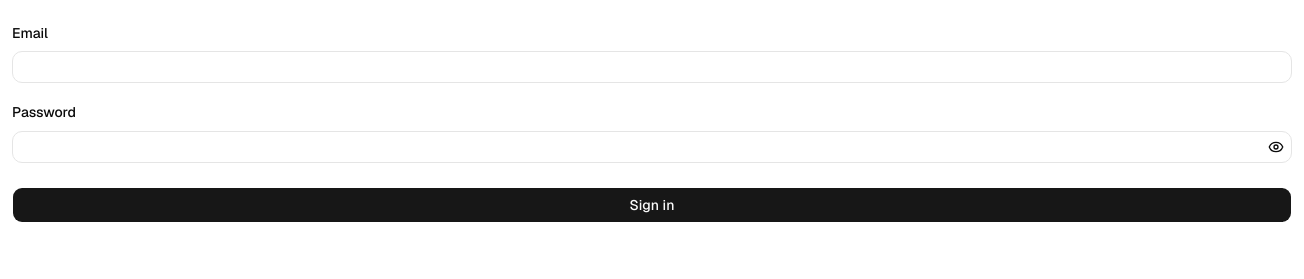
Test: SigninForm › uses Retry-After for 429 and does not retry
This screenshot has width=1304, height=279.
Type "Mostafa@Example.com" into the field labelled "Email" at [652, 67], box left=12, top=51, right=1292, bottom=83
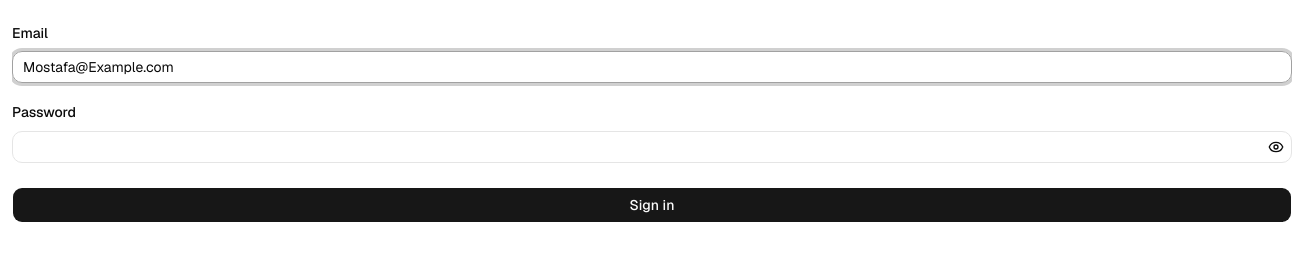
Type " secret " into the password field labelled "Password" at [652, 146], box left=12, top=130, right=1292, bottom=162
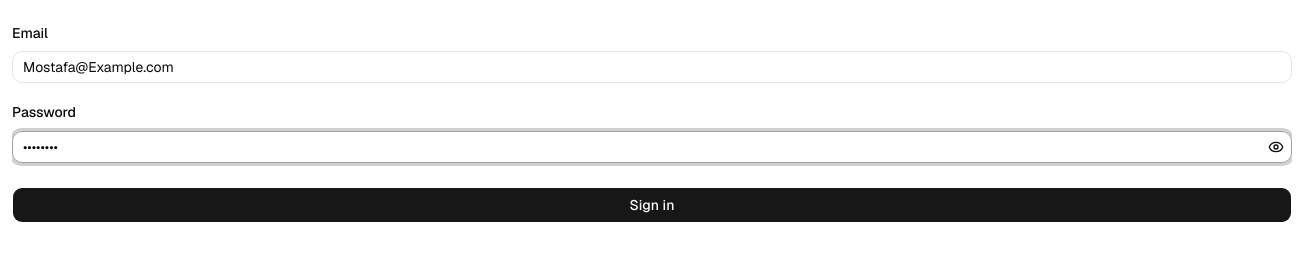
Click the button "Sign in" at [652, 204], box left=12, top=186, right=1292, bottom=222
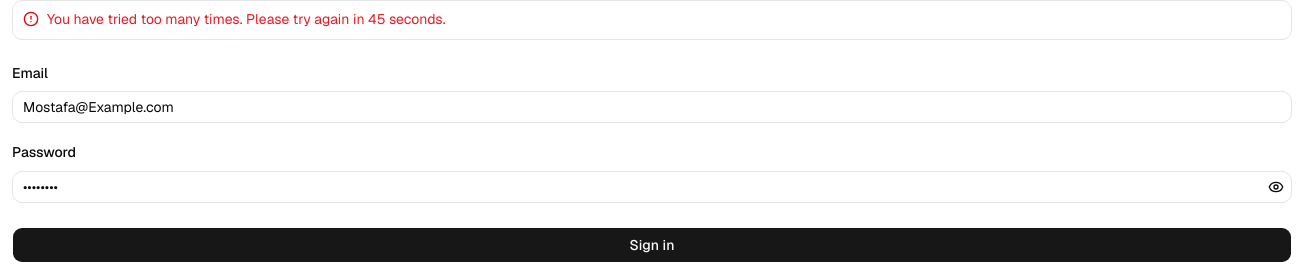
Check: the text "You have tried too many times. Please try again in 45 seconds." is shown, box left=47, top=10, right=446, bottom=28
